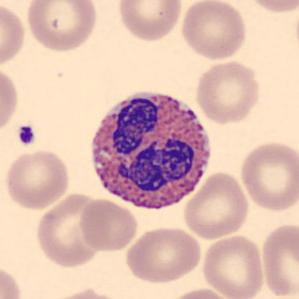Eosinophil: (83, 82, 218, 219)
Platelets: (15, 123, 37, 148)
RBC: (33, 190, 109, 270), (123, 224, 204, 285), (181, 170, 251, 240), (193, 59, 263, 126), (238, 138, 298, 214), (199, 233, 267, 299), (2, 147, 72, 211), (179, 0, 249, 62), (24, 0, 100, 54), (77, 197, 140, 253), (258, 221, 298, 298), (115, 0, 184, 43), (0, 1, 28, 70), (0, 64, 21, 136), (46, 286, 123, 299), (0, 261, 24, 299), (166, 286, 235, 299), (242, 0, 298, 15)
